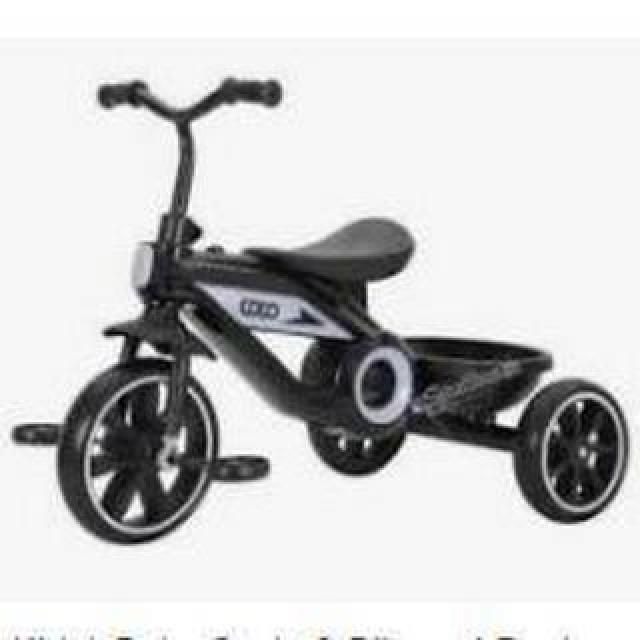Person: (20, 72, 628, 558)
